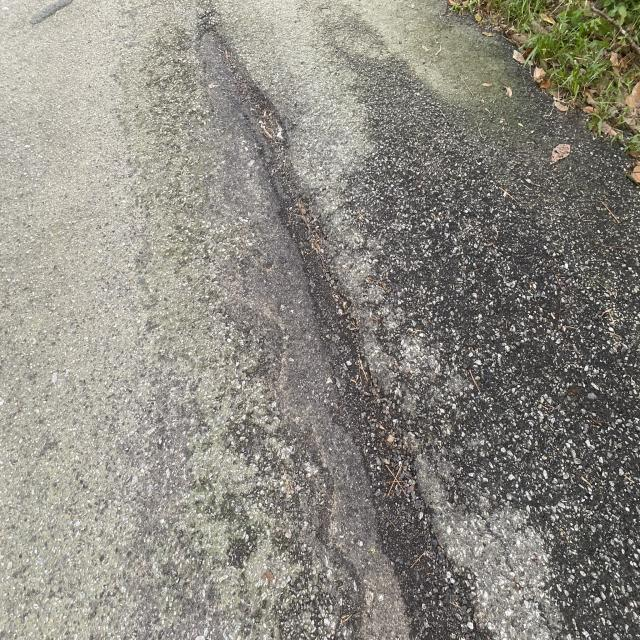Pothole: (176, 37, 372, 454)
